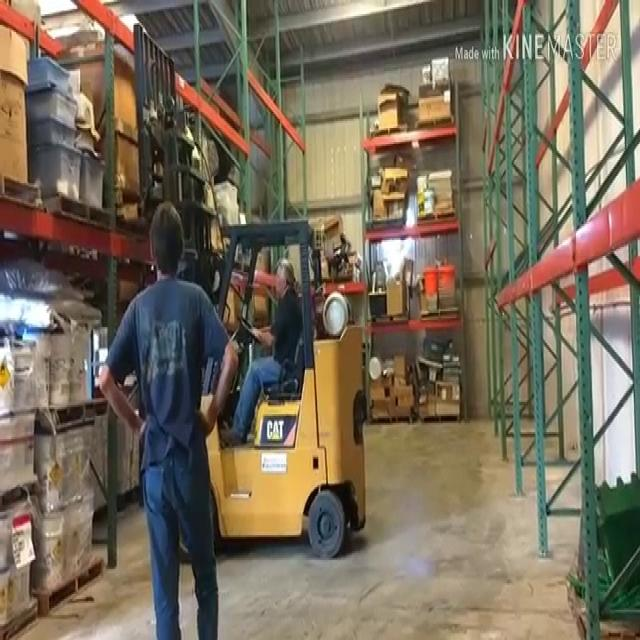Chariot elevateur: (185, 212, 372, 560)
